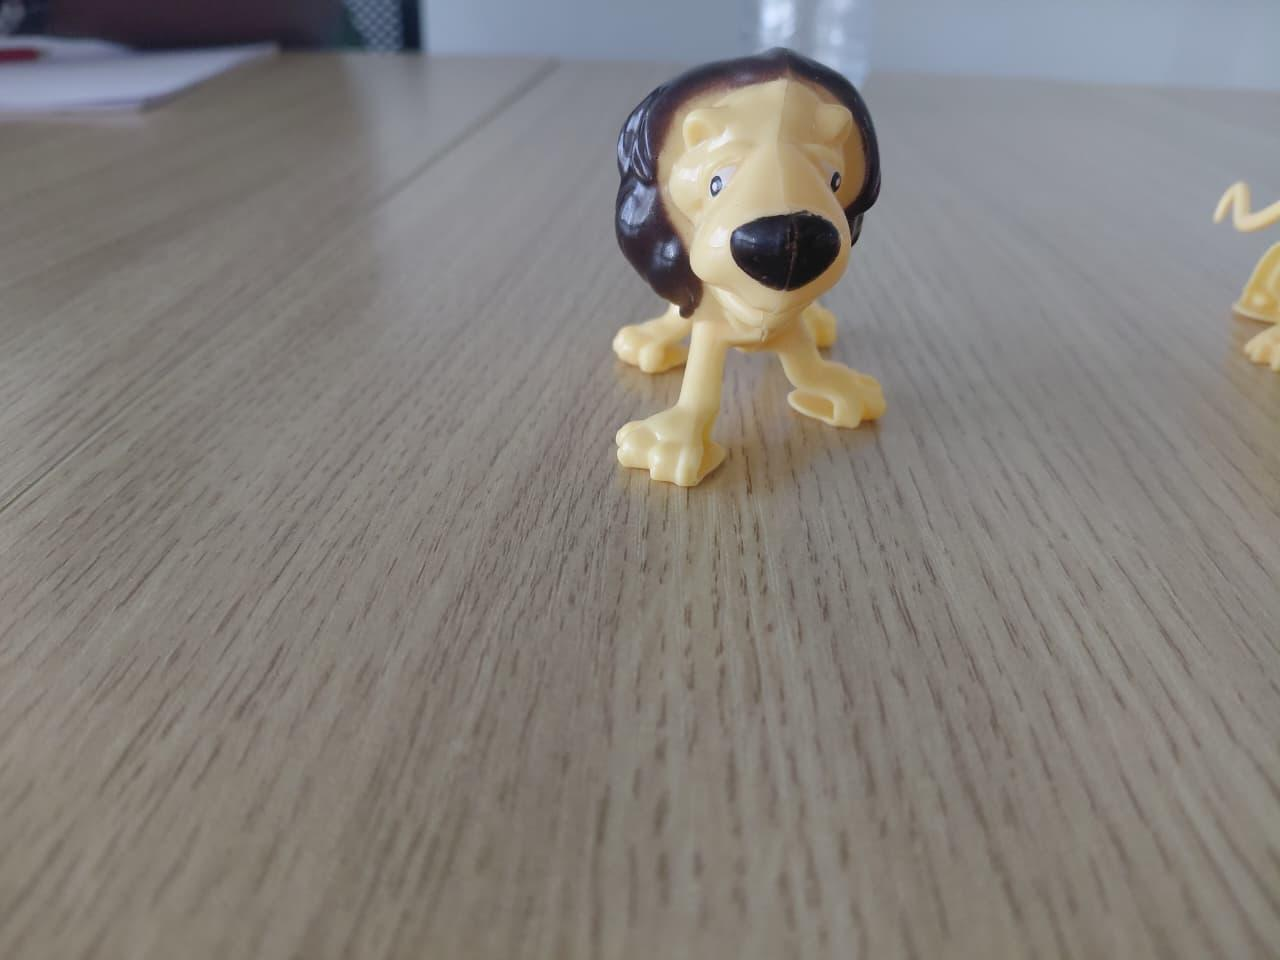lion: (577, 36, 940, 511)
